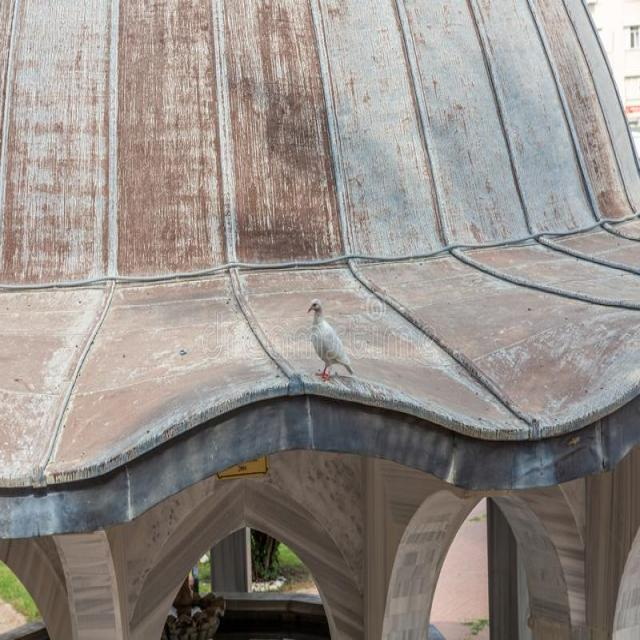bird: (306, 298, 356, 380)
